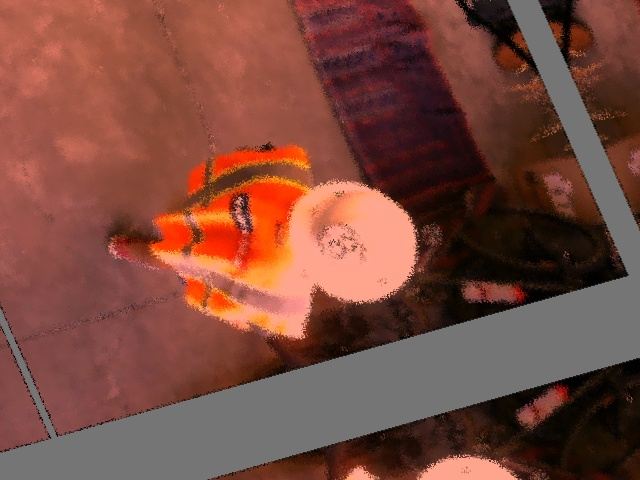eight: (310, 217, 371, 275)
